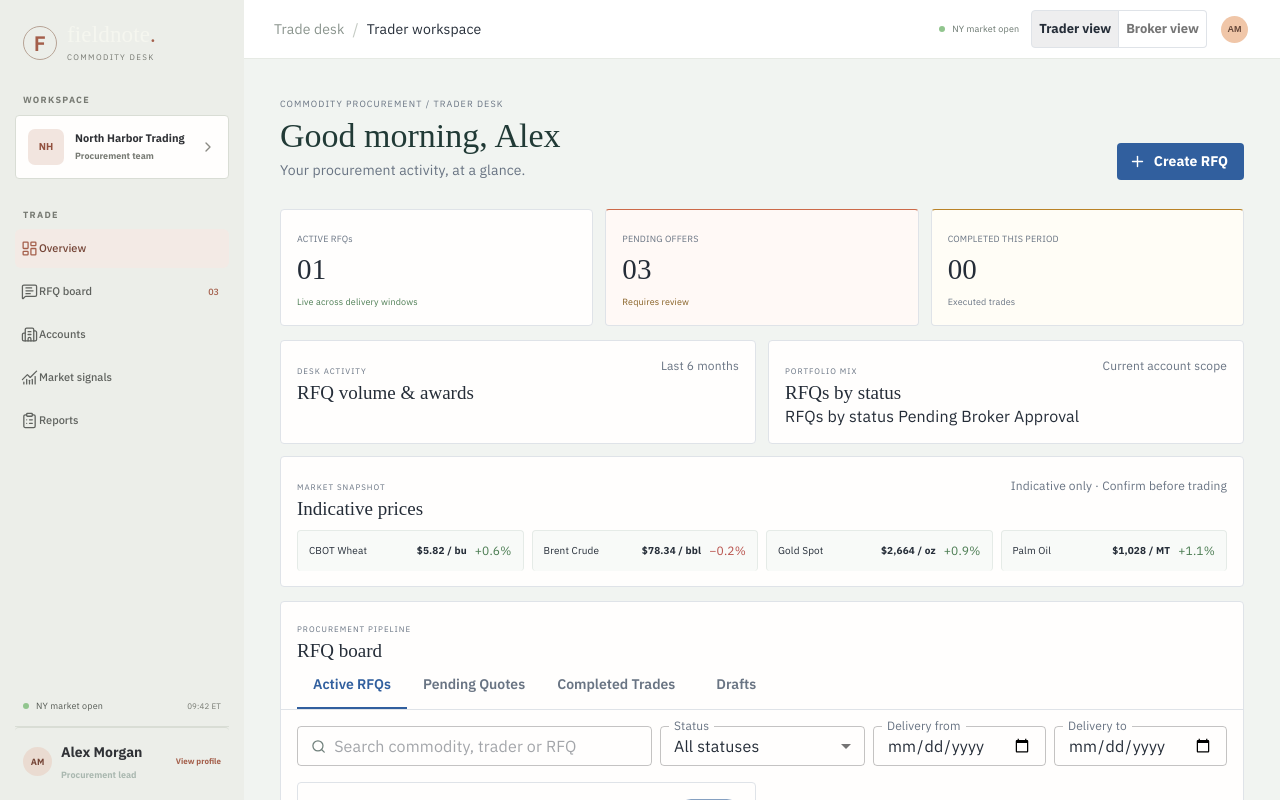
opens the trader dashboard and switches to broker view
The width and height of the screenshot is (1280, 800).
Click the button "Broker view" at [1163, 29], box top-left (1118, 10), bottom-right (1207, 48)
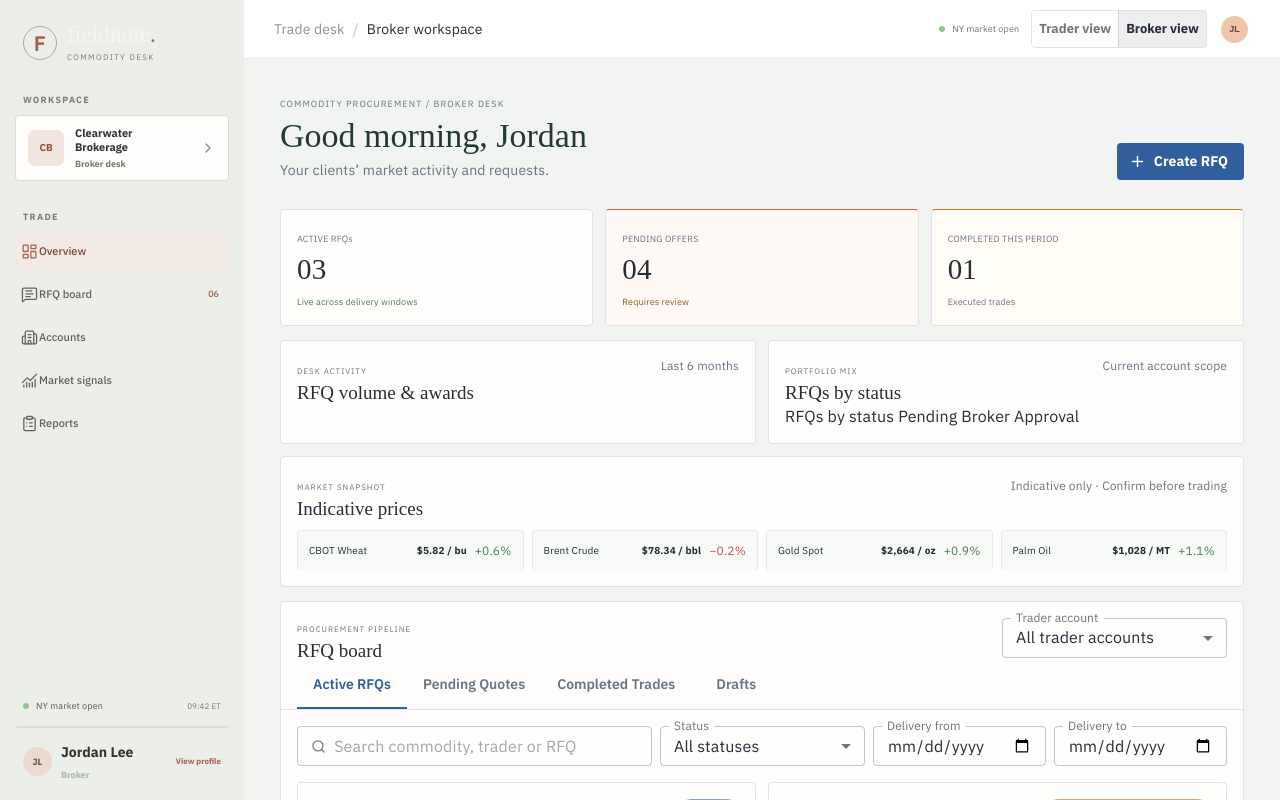
Result: the text "Good morning, Jordan" is shown at top-left (280, 116), bottom-right (587, 156)
Result: the text "All trader accounts" is shown at top-left (1016, 628), bottom-right (1154, 648)
